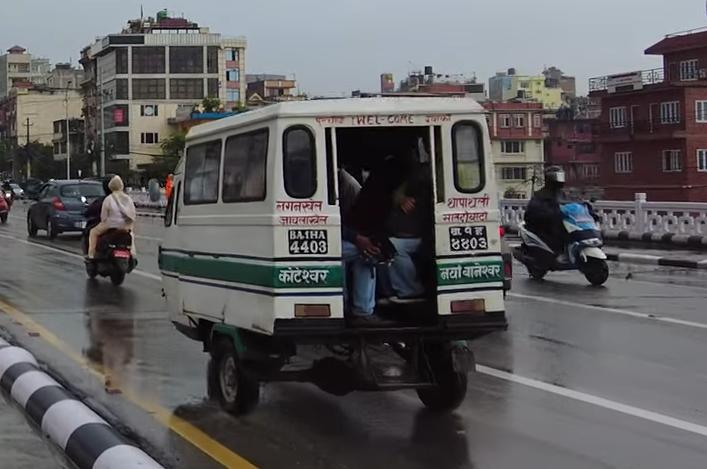car: (23, 174, 111, 243)
scooter: (515, 191, 613, 289), (77, 193, 145, 291)
tempo: (147, 92, 531, 426)
